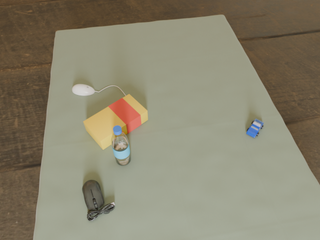bottle: (111, 126, 131, 165)
box: (83, 94, 148, 150)
mouse: (82, 180, 115, 221), (72, 84, 95, 95)
toy_car: (246, 119, 263, 138)
